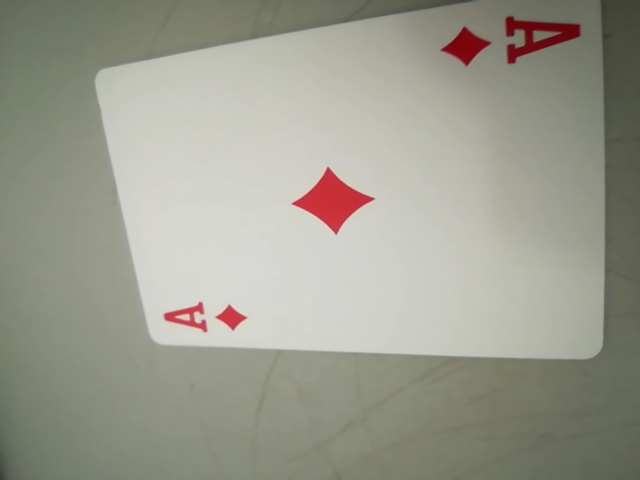fk a: (437, 5, 583, 72), (157, 292, 252, 340)
